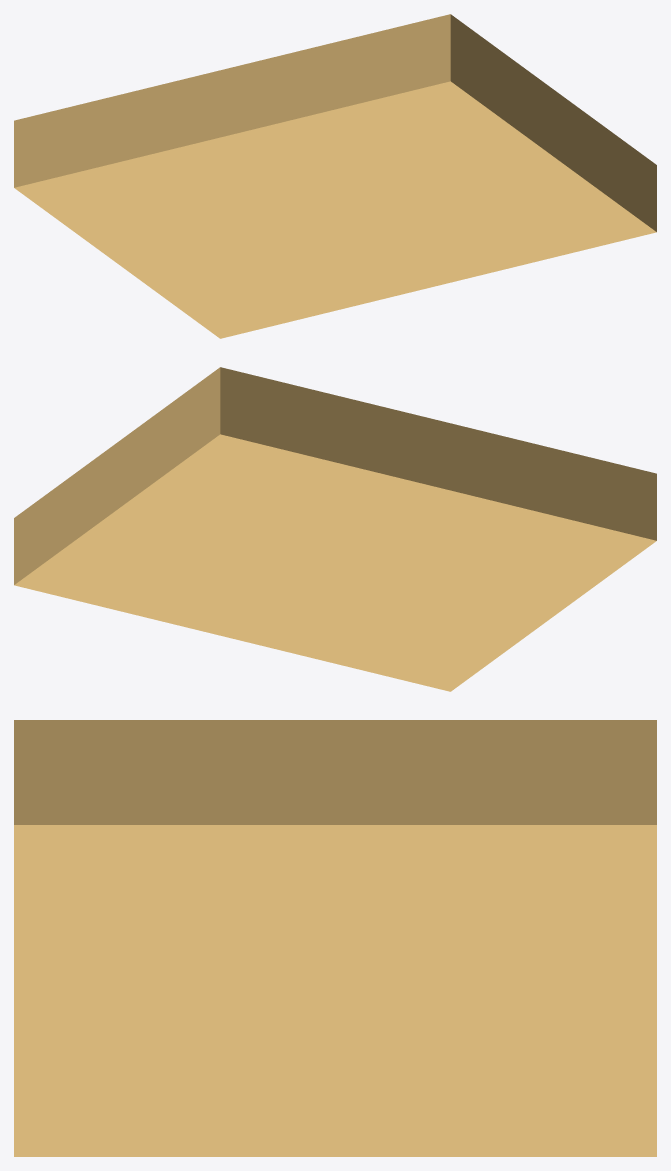
File: utilities-moroccan-night-018.glb
3 renders of one model, top to bottom at view 1: azimuth 30°, elevation 25°; view 2: azimuth 150°, elevation 25°; view 3: azimuth 270°, elevation 25°, orthographic. The views are drawn at different scales.
Parts seen in each view (by area): view 1: Moroccan Night Utilities; view 2: Moroccan Night Utilities; view 3: Moroccan Night Utilities.
Boxes of the visible parts, x1,y1,x2,y2 form: Moroccan Night Utilities: (14,14,656,338); Moroccan Night Utilities: (14,367,656,691); Moroccan Night Utilities: (14,720,656,1156).
Size of the model in its own units: 4.35 by 0.64 by 3.56.
